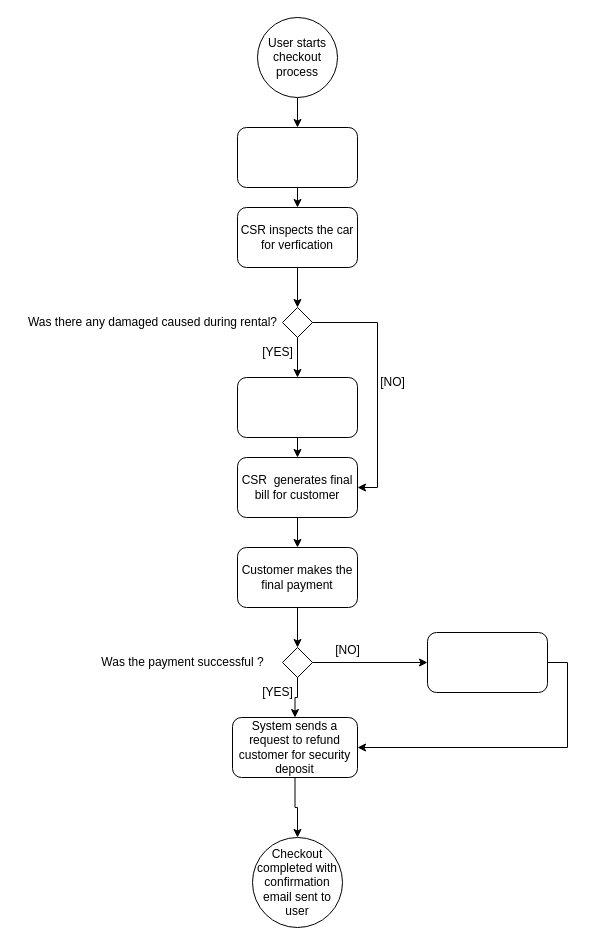
Some shapes in this 593 by 945 pixel diagram are drawn without their labels. The centre of each missing label's shape, as x and y in pixels:
CSR may add any required additional change/ services to customer bill: point 297,407
Customer can change payment method and enters a new card: point 487,662
User returns the car to drop off location on return day: point 297,157
